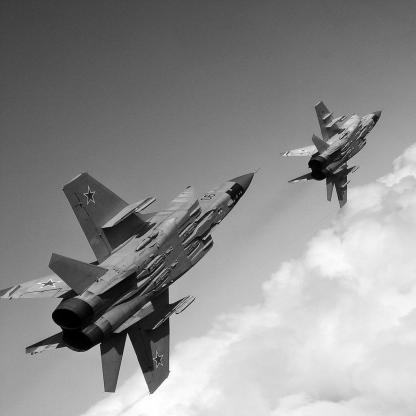Mig31: (1, 168, 262, 396), (281, 102, 385, 210)
